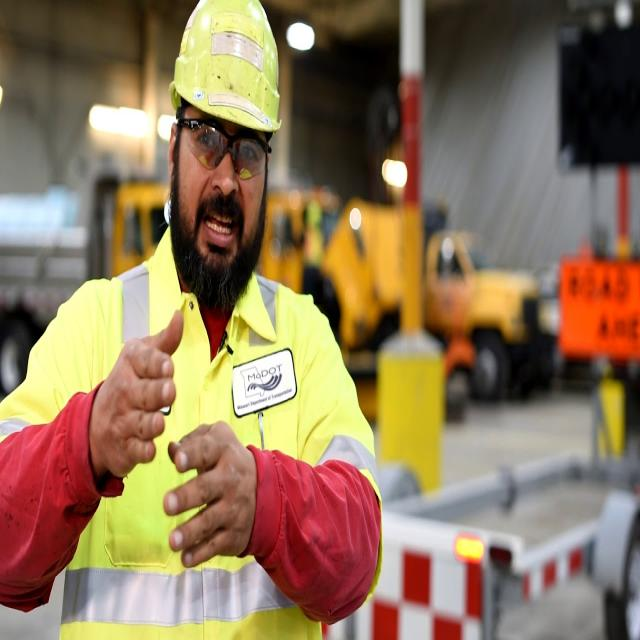Reflective-Jacket: (53, 257, 379, 634)
Safety-Helmet: (166, 0, 286, 134)
